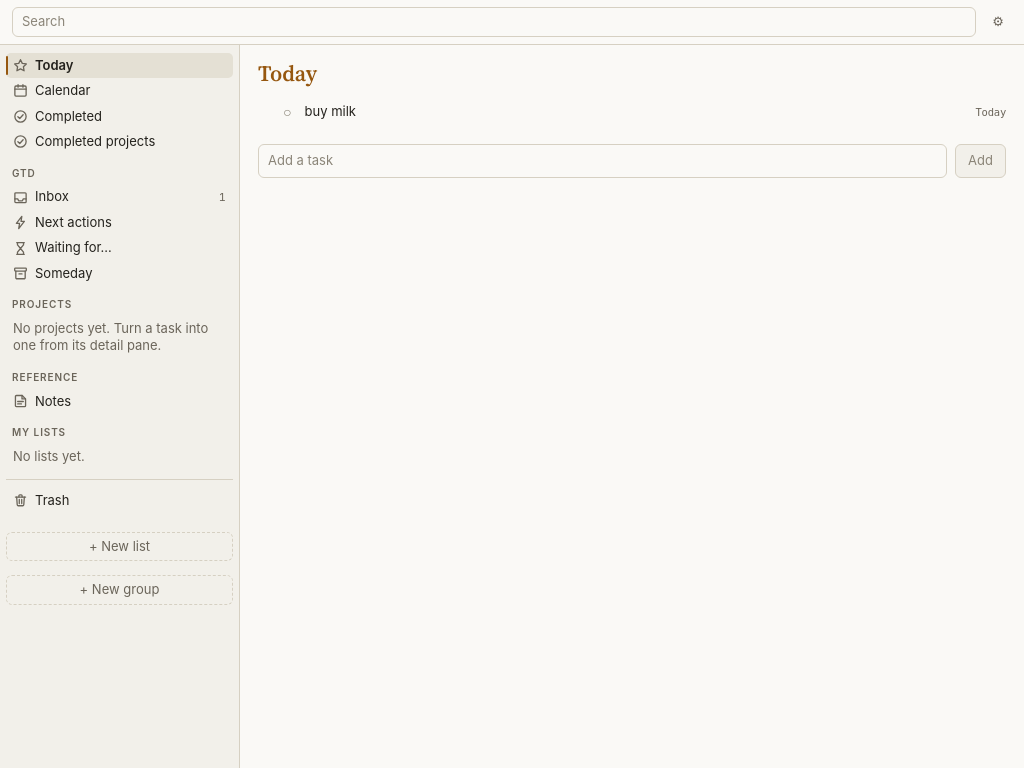
Test: Shell › completionCircleIsACheckboxWithAriaChecked
Step 1. Click the checkbox named "Complete buy milk" → (287, 112), box [278,100,297,124]
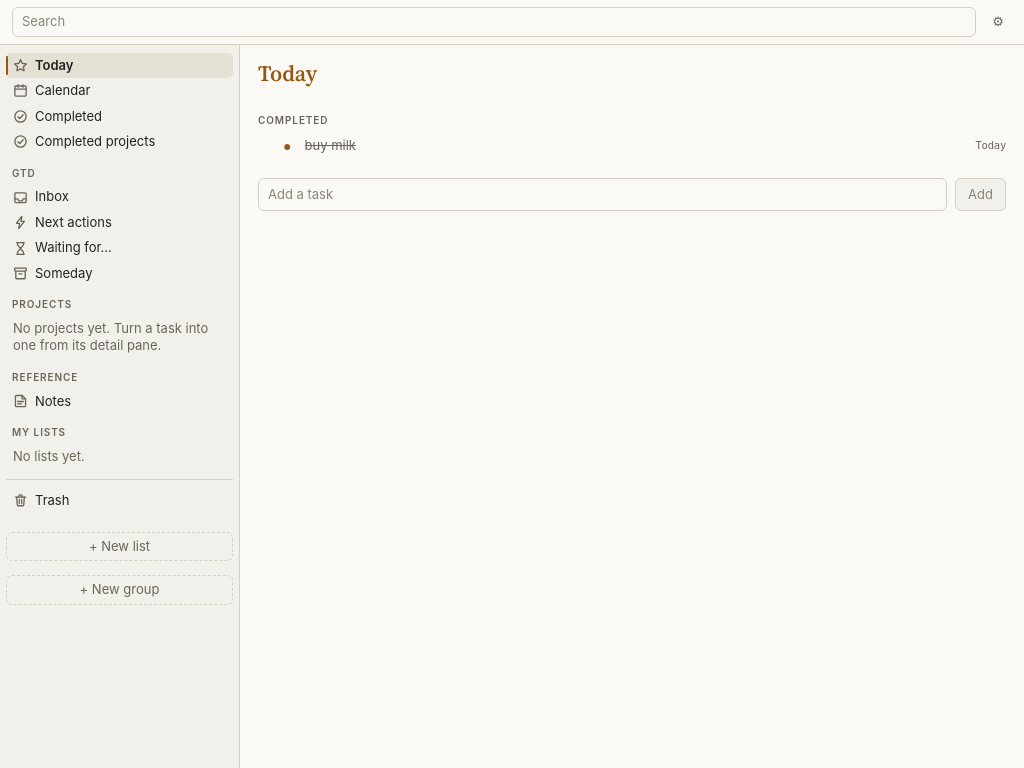
Check: the checkbox named "Un-complete buy milk" is shown, box [278,134,297,158]
